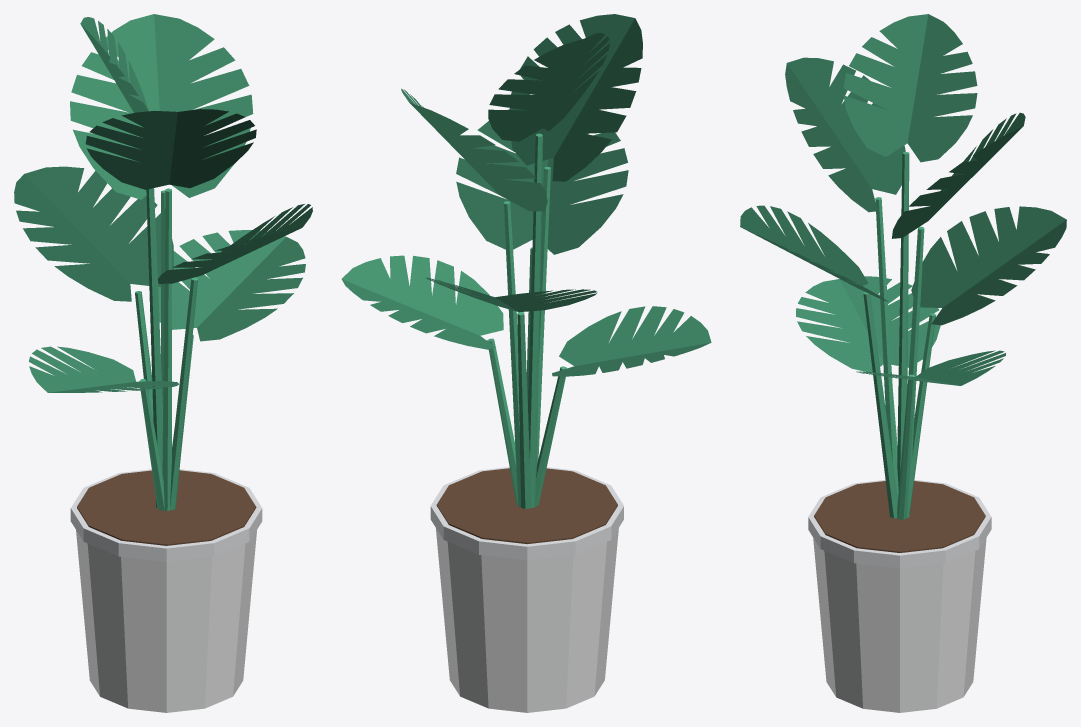
The model's file is house_plant.glb.
3 renders of one model, left to right at view 1: azimuth 30°, elevation 25°; view 2: azimuth 150°, elevation 25°; view 3: azimuth 270°, elevation 25°, orthographic. The views are drawn at different scales.
Visible parts, largest first — view 1: Cone, leaf.004, leaf.001, leaf.005, Cylinder.001, leaf, leaf.002, Cylinder, leaf.003, Cone.006, Cone.007, leaf.006 (+4 smaller); view 2: Cone, Cylinder.001, leaf.003, leaf.005, leaf, leaf.006, leaf.002, leaf.004, Cylinder, Cone.007, Cone.005, leaf.001 (+4 smaller); view 3: Cone, leaf.006, leaf.001, Cylinder.001, leaf.005, leaf.002, leaf.003, Cylinder, leaf.004, Cone.007, Cone.006, Cone.004 (+4 smaller).
Part boxes in pixels (x1,y1,x2,y2): Cone: (76,530,256,712); leaf.004: (70,14,253,199); leaf.001: (14,166,173,301); leaf.005: (85,109,256,189); Cylinder.001: (77,470,256,545); leaf: (158,230,305,341); leaf.002: (29,346,178,392); Cylinder: (70,469,262,561); leaf.003: (158,204,312,283); Cone.006: (162,188,171,510); Cone.007: (146,188,162,507); leaf.006: (80,17,148,127); Cone: (436,528,618,712); Cylinder.001: (436,468,617,544); leaf.003: (456,109,628,254); leaf.005: (509,14,642,181); leaf: (341,255,503,349); leaf.006: (488,33,609,141); leaf.002: (552,306,711,376); leaf.004: (401,88,547,211); Cylinder: (430,467,623,560); Cone.007: (528,133,542,507); Cone.005: (503,201,521,507); leaf.001: (426,277,596,312); Cone: (813,538,986,712); leaf.006: (843,14,977,162); leaf.001: (911,206,1066,325); Cylinder.001: (814,481,985,552); leaf.005: (785,57,905,212); leaf.002: (796,276,940,372); leaf.003: (740,205,888,301); Cylinder: (808,479,991,568); leaf.004: (892,112,1025,238); Cone.007: (897,152,909,489); Cone.006: (875,197,898,499); Cone.004: (863,292,897,518).
Bounding box in the file's own units: 56.96 × 119 × 55.62.
